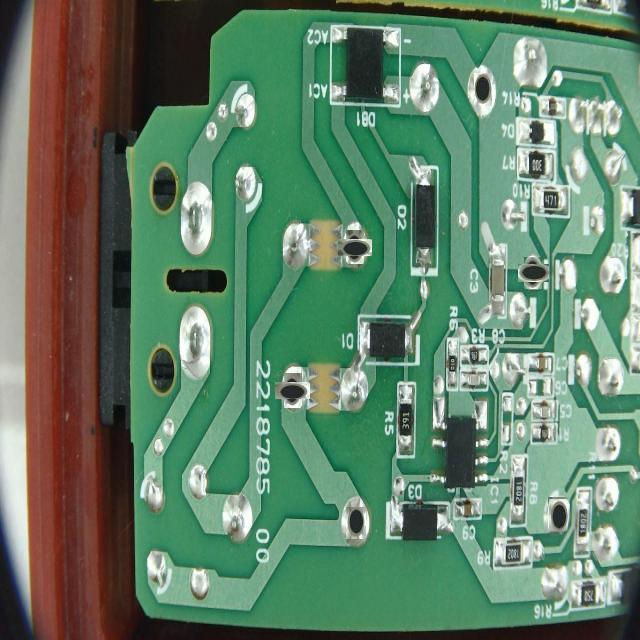damged: (280, 377, 306, 404), (548, 498, 568, 532), (342, 234, 368, 260), (520, 260, 546, 286), (346, 507, 366, 539), (474, 74, 492, 108)
